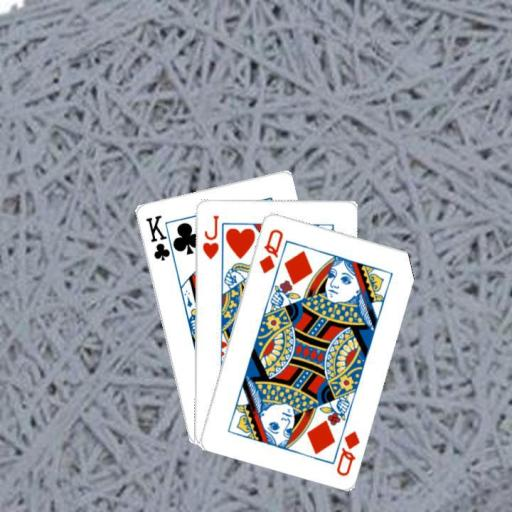JH: (199, 212, 220, 260)
KC: (142, 212, 177, 264)
QD: (256, 226, 285, 275), (333, 427, 361, 477)
